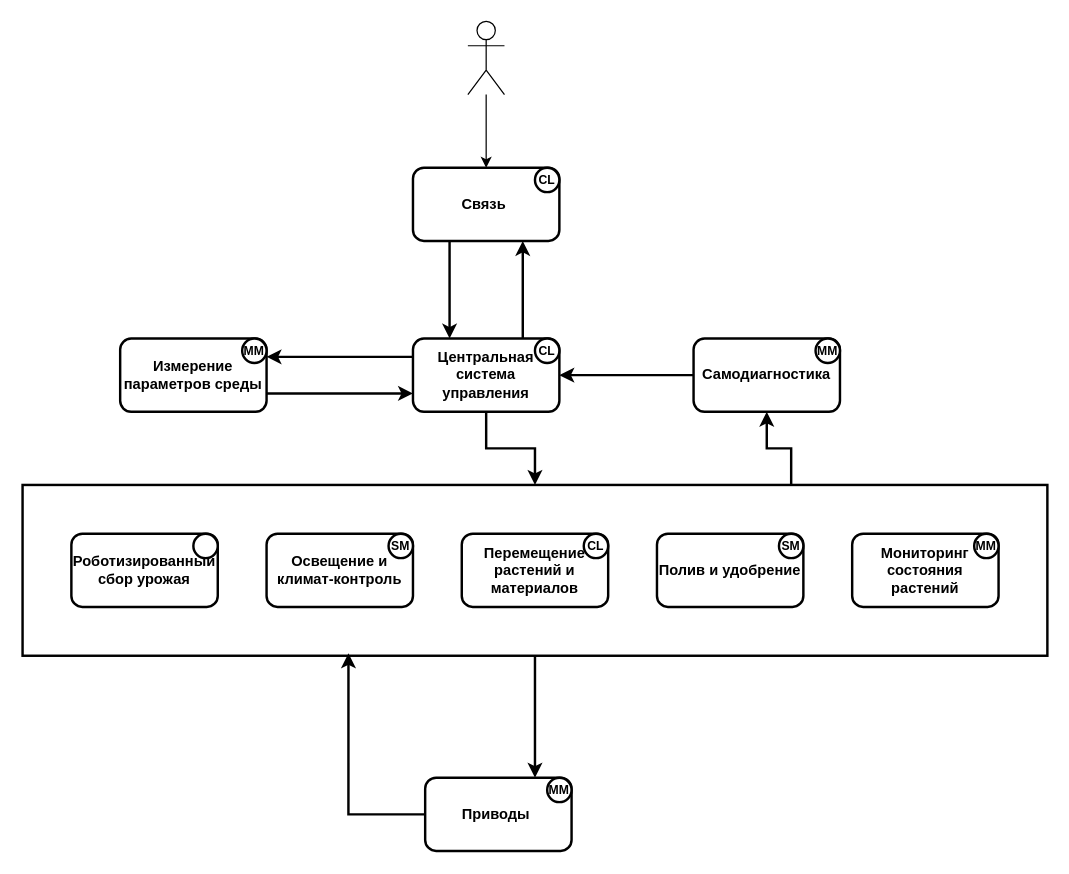
This 1069x874 diagram has some shape labels left out. The centre of each missing label's shape, as x and y in pixels:
"SS" goes at [205,545].
"Оператор" goes at [485,57].
